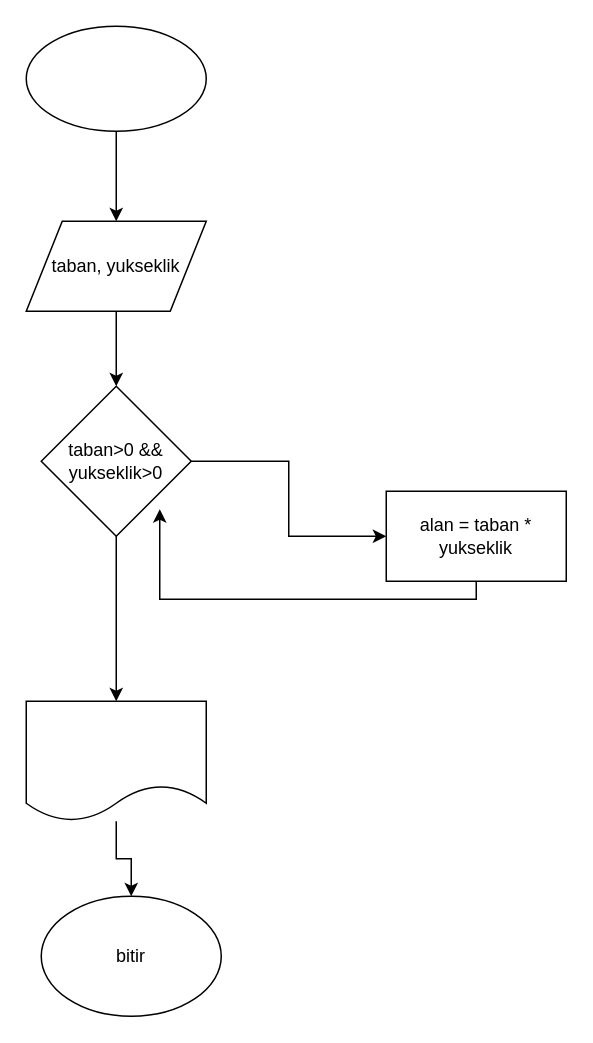
Image size: 593x1043. Some labels were removed from this diagram. Each missing label, with the centre of its shape:
"alan" belongs at (115,760).
"başla" belongs at (115,78).
